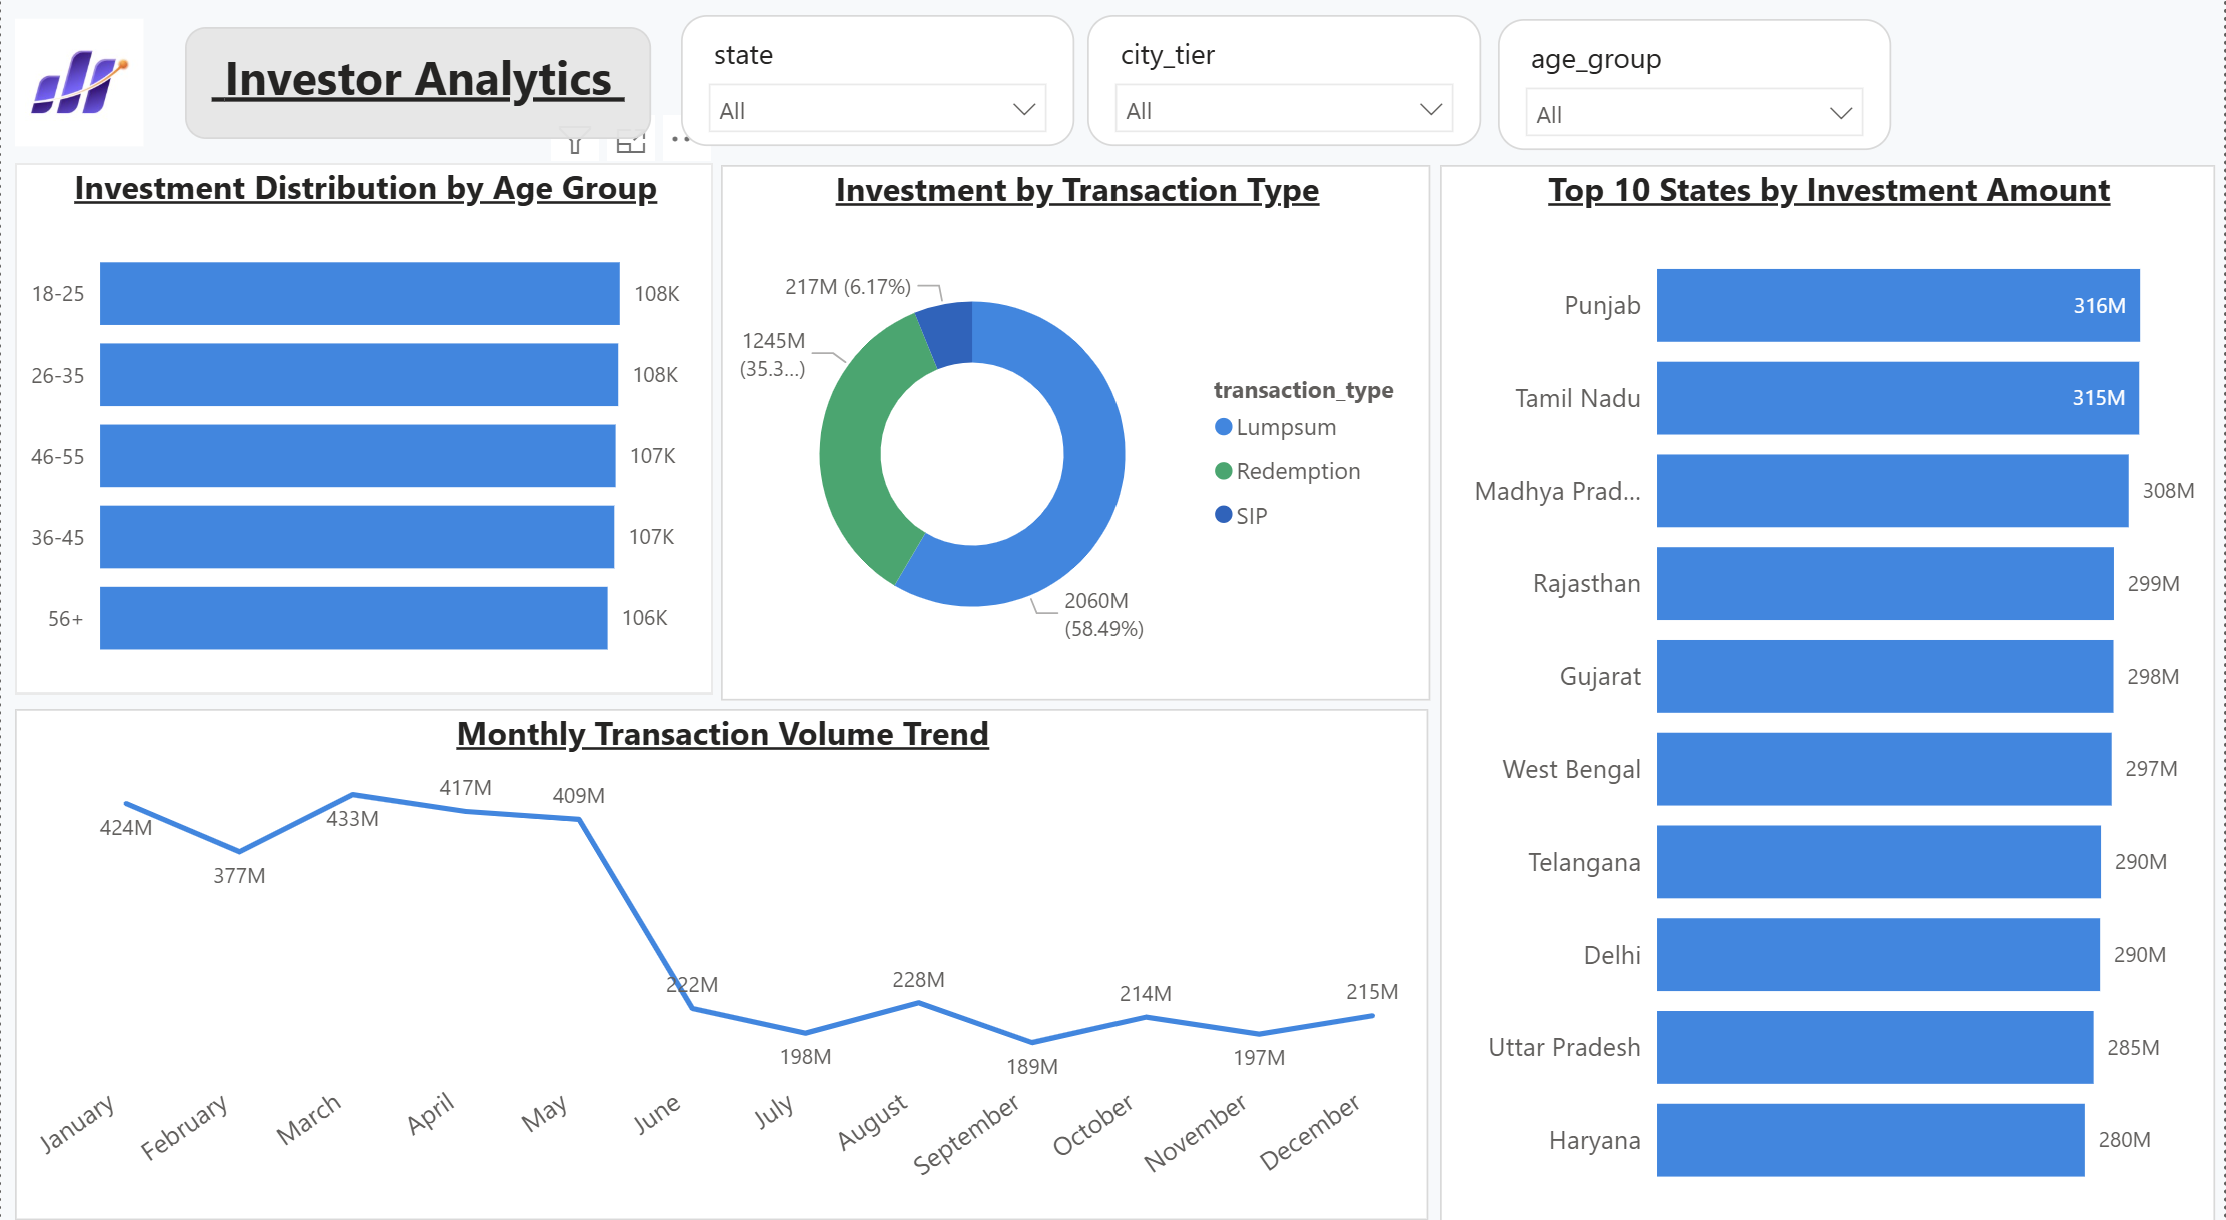

This screenshot's page, from the dashboard's own definition file:
{"tool":"powerbi","page":{"name":" Investor Analytics ","canvas":[1280,720],"ordinal":2},"visuals":[{"type":"barChart","title":"Investment Distribution by Age Group","fields":{"Category":["08_investor_transactions_cleaned.age_group"],"Y":["Avg(08_investor_transactions_cleaned.amount_inr)"]},"box":[7.7,105.1,402.1,306.2],"z":0},{"type":"barChart","title":"Top 10 States by Investment Amount","fields":{"Category":["08_investor_transactions_cleaned.state"],"Y":["Sum(08_investor_transactions_cleaned.amount_inr)"]},"box":[828.8,105.9,446.6,610.8],"z":1000},{"type":"donutChart","title":"Investment by Transaction Type","fields":{"Category":["08_investor_transactions_cleaned.transaction_type"],"Y":["Sum(08_investor_transactions_cleaned.amount_inr)"]},"box":[414.4,105.9,408.2,308.5],"z":2000},{"type":"slicer","fields":{"Values":["08_investor_transactions_cleaned.age_group"]},"box":[861.7,21.4,226.4,75.5],"z":3000},{"type":"slicer","fields":{"Values":["08_investor_transactions_cleaned.state"]},"box":[391.1,19.8,226.4,75.5],"z":4000},{"type":"textbox","box":[105.9,26.1,268.6,64.5],"z":5000},{"type":"image","box":[8,20.9,73.9,75.5],"z":6000},{"type":"slicer","fields":{"Values":["08_investor_transactions_cleaned.city_tier"]},"box":[625.6,19.8,226.4,75.5],"z":7000},{"type":"lineChart","title":"Monthly Transaction Volume Trend","fields":{"Y":["Sum(08_investor_transactions_cleaned.amount_inr)"],"Category":["08_investor_transactions_cleaned.transaction_date.Variation.Date Hierarchy.Month"]},"box":[7.7,419,813.4,294.7],"z":8000}]}

Visuals, with their boxes in screenshot pixels (x1, y1, x2, y2), scaled from the page's 1280x720 canvas onto the 2226x1220 screenshot:
"Investment Distribution by Age Group" barChart: 13/178/713/697
"Top 10 States by Investment Amount" barChart: 1441/179/2218/1214
"Investment by Transaction Type" donutChart: 721/179/1431/702
slicer - 08_investor_transactions_cleaned.age_group: 1499/36/1892/164
slicer - 08_investor_transactions_cleaned.state: 680/34/1074/161
textbox: 184/44/651/154
image: 14/35/142/163
slicer - 08_investor_transactions_cleaned.city_tier: 1088/34/1482/161
"Monthly Transaction Volume Trend" lineChart: 13/710/1428/1209
